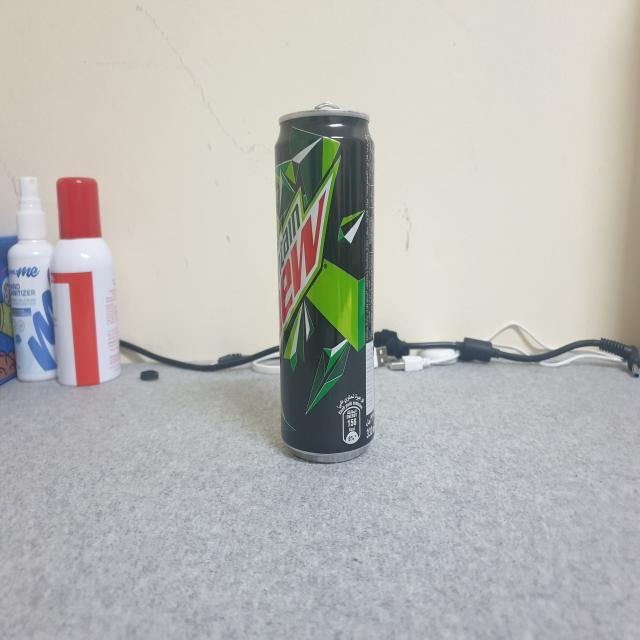can: (268, 90, 386, 472)
